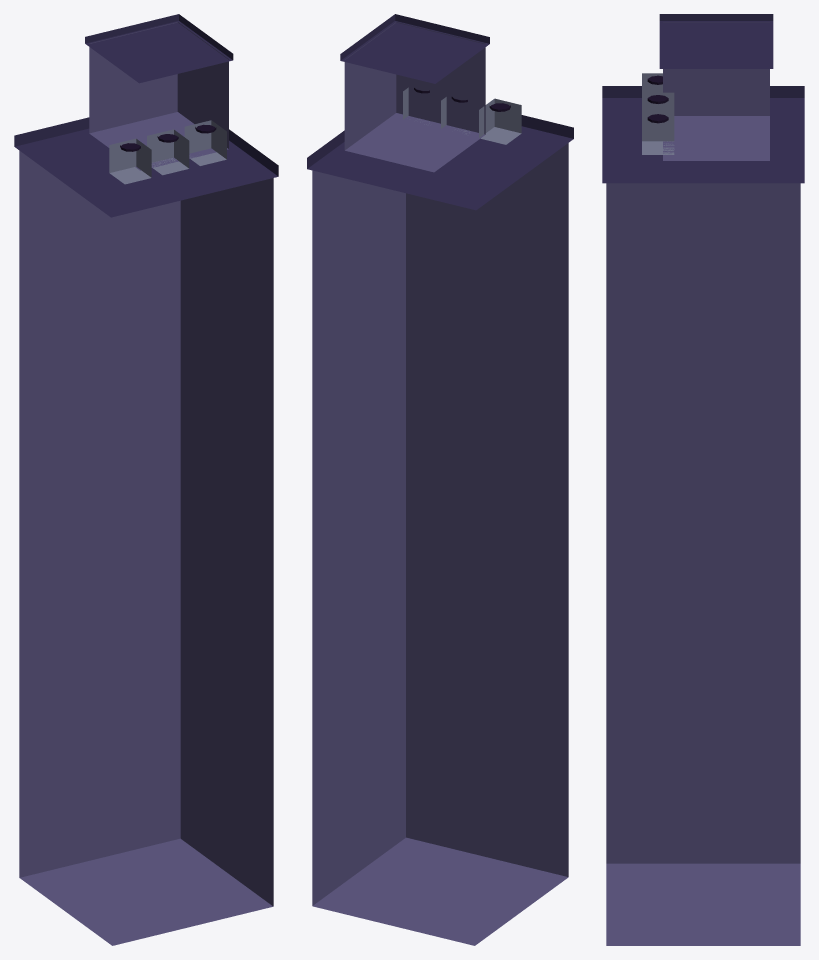
Rendered from hop_tower_c.glb.
The picture shows the model from 3 angles, left to right: view 1: azimuth 30°, elevation 25°; view 2: azimuth 150°, elevation 25°; view 3: azimuth 270°, elevation 25°; orthographic projection. The views are drawn at different scales.
Visible parts, largest first — view 1: hop_tower_c; view 2: hop_tower_c; view 3: hop_tower_c.
Part boxes in pixels (x1,y1,x2,y2): hop_tower_c: (14,14,278,945); hop_tower_c: (307,14,573,945); hop_tower_c: (602,14,804,945).
Size of the model in its own units: 3.12 by 14.91 by 3.12.
